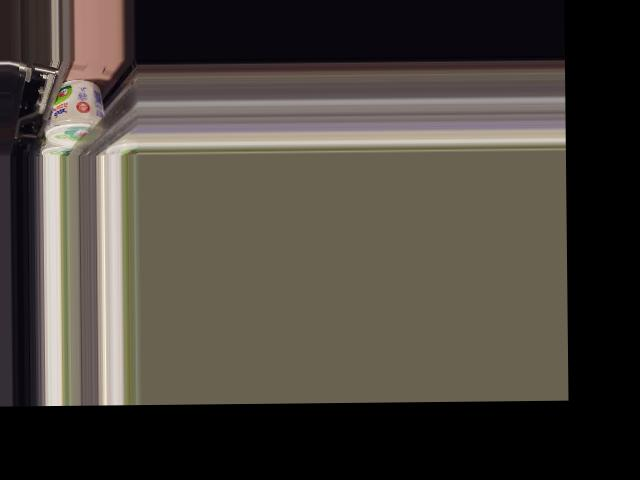cotage: (48, 80, 106, 147)
